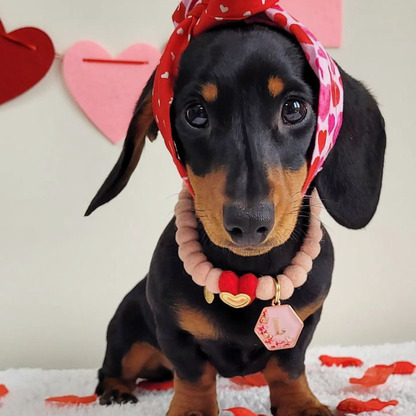dachshund: (135, 42, 376, 407)
